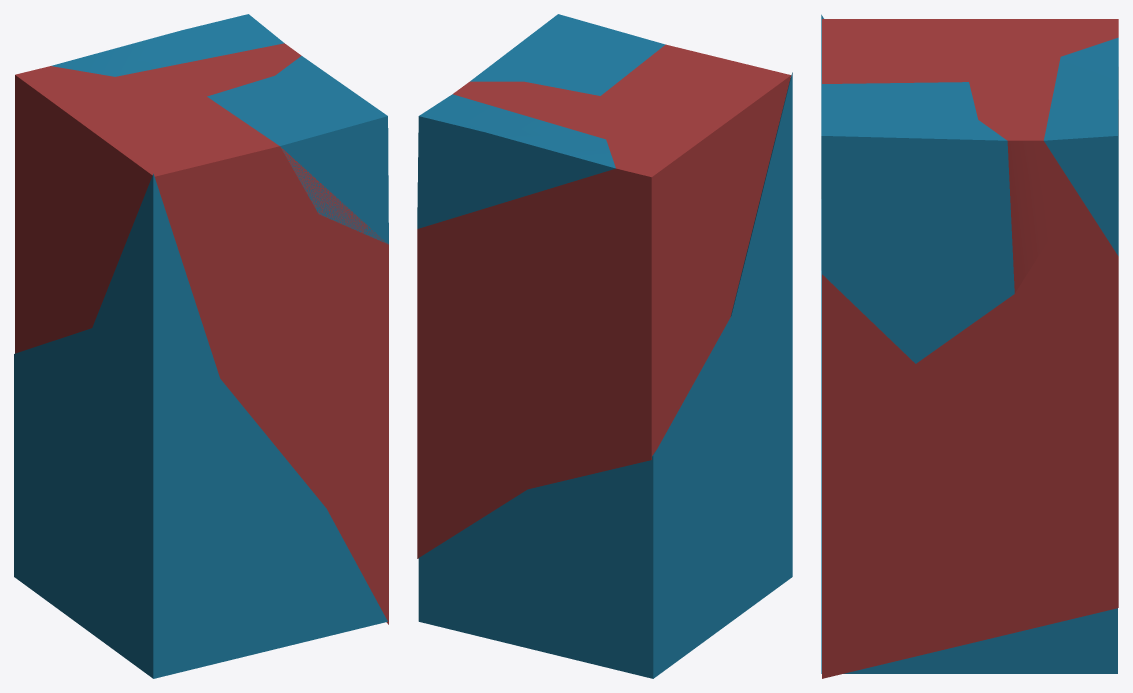
Rendered from destructable.fbx.
The picture shows the model from 3 angles, left to right: view 1: azimuth 30°, elevation 25°; view 2: azimuth 150°, elevation 25°; view 3: azimuth 270°, elevation 25°; orthographic projection. The views are drawn at different scales.
Parts seen in each view (by area): view 1: destCube_mid, destCube_base, destCube_frag_02, destCube_frag_01; view 2: destCube_mid, destCube_base, destCube_frag_01, destCube_frag_02; view 3: destCube_mid, destCube_frag_02, destCube_frag_01, destCube_base.
Part boxes in pixels (bbox=[...]): destCube_mid: bbox=[15, 43, 388, 624]; destCube_base: bbox=[14, 173, 387, 678]; destCube_frag_02: bbox=[207, 56, 388, 244]; destCube_frag_01: bbox=[51, 14, 284, 76]; destCube_mid: bbox=[417, 44, 791, 558]; destCube_base: bbox=[418, 72, 792, 678]; destCube_frag_01: bbox=[417, 94, 615, 228]; destCube_frag_02: bbox=[470, 14, 665, 95]; destCube_mid: bbox=[822, 19, 1118, 678]; destCube_frag_02: bbox=[821, 82, 1014, 363]; destCube_frag_01: bbox=[1043, 37, 1118, 255]; destCube_base: bbox=[821, 14, 1117, 673].
Size of the model in its own units: 1.95 by 4.03 by 2.
